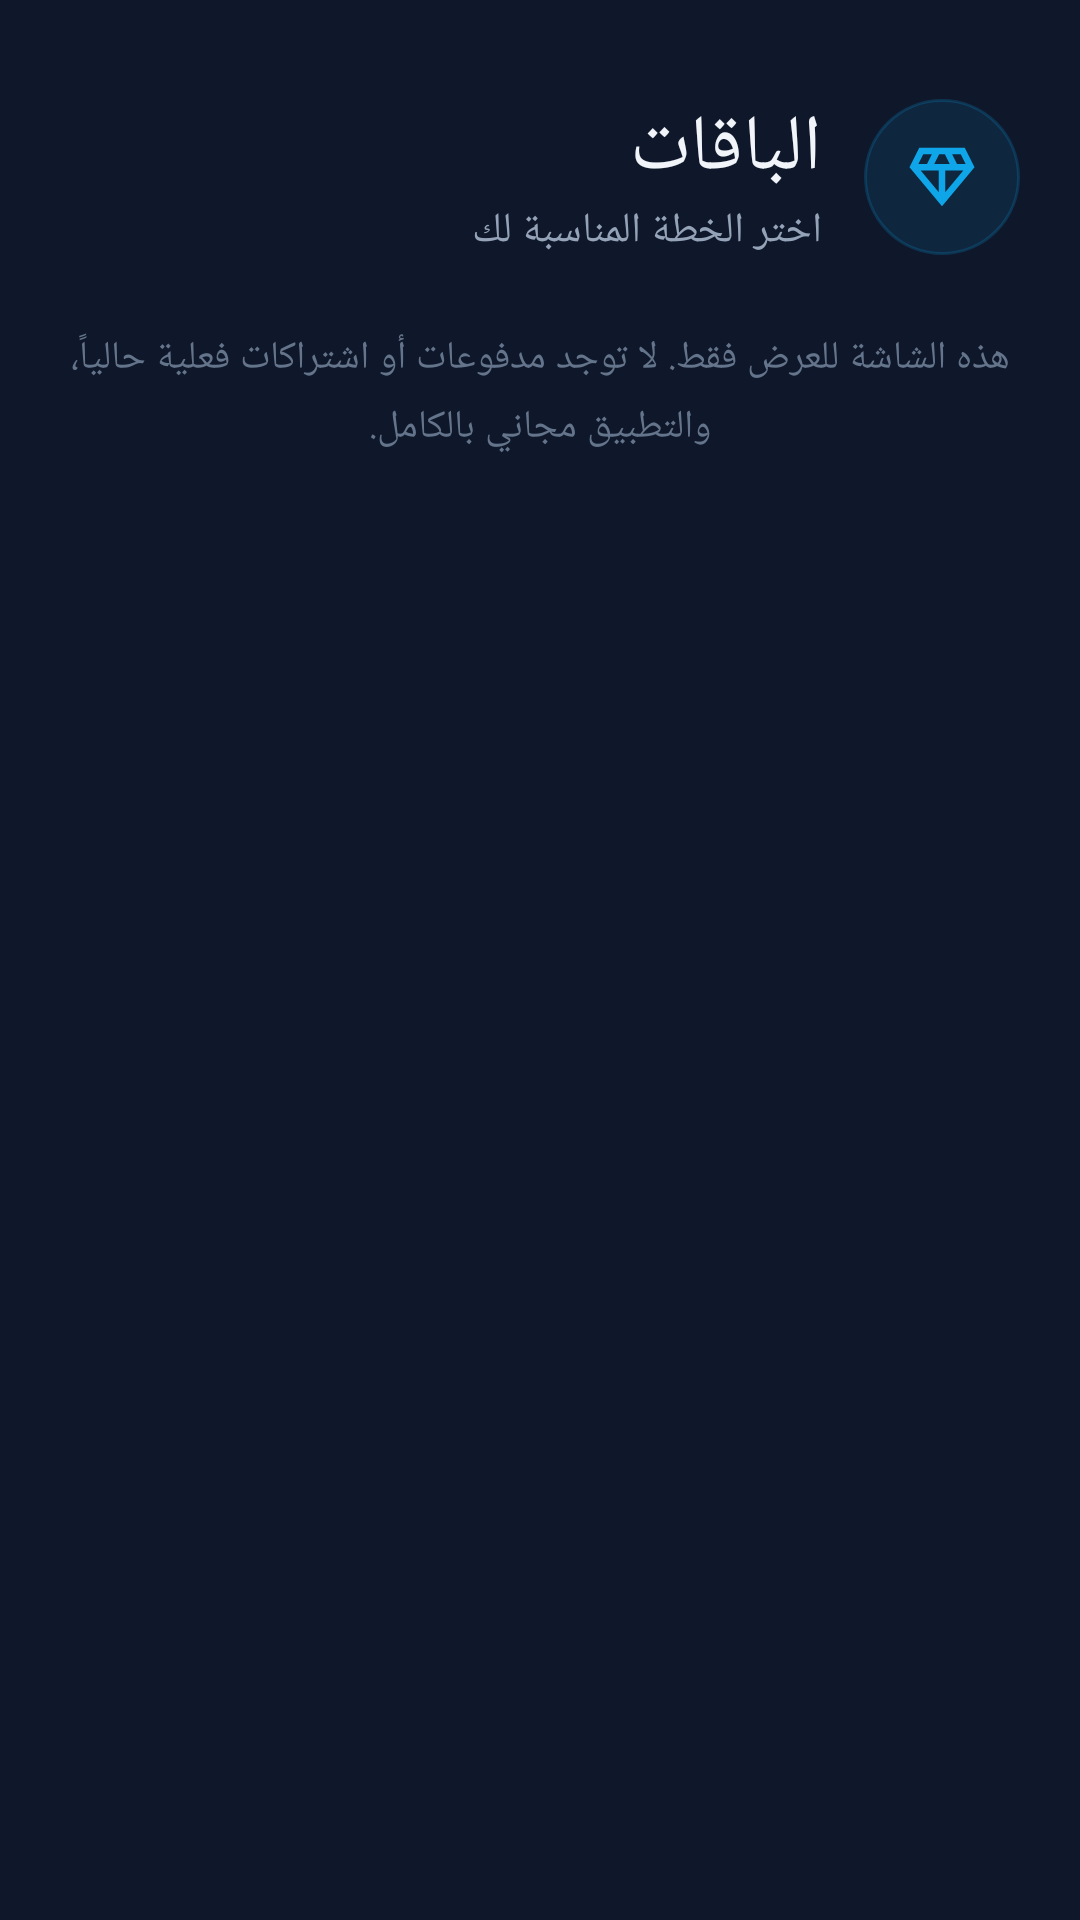

Named icons in this screenshot (1080px×1920px) and their bounding boxes, (x1, y1, x2, y2):
diamond: (864, 99, 1020, 255)
